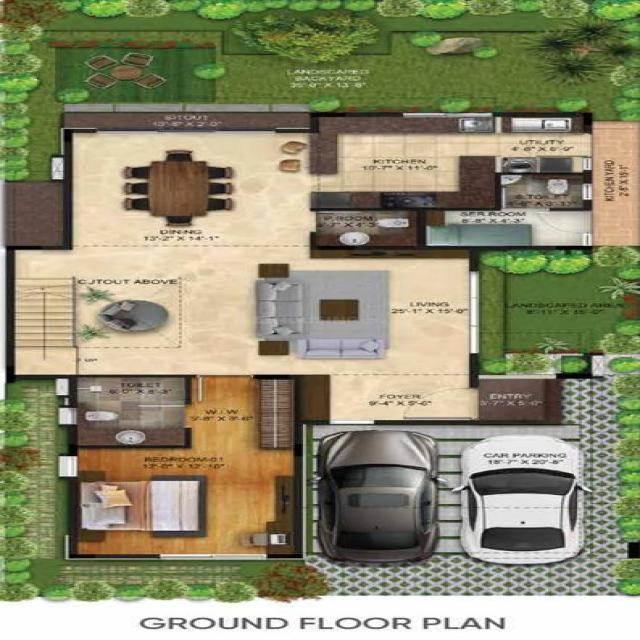Balcony-Sitout: (56, 110, 310, 130)
Bedroom with Toilet: (72, 376, 299, 557)
Dining: (122, 147, 238, 231)
Enterance-Foyer: (294, 376, 554, 422)
Kitchen: (314, 115, 499, 208)
Living: (72, 250, 471, 375)
Toilet: (74, 378, 190, 447), (317, 210, 423, 247), (504, 175, 589, 209)
Utility: (500, 114, 587, 172)
